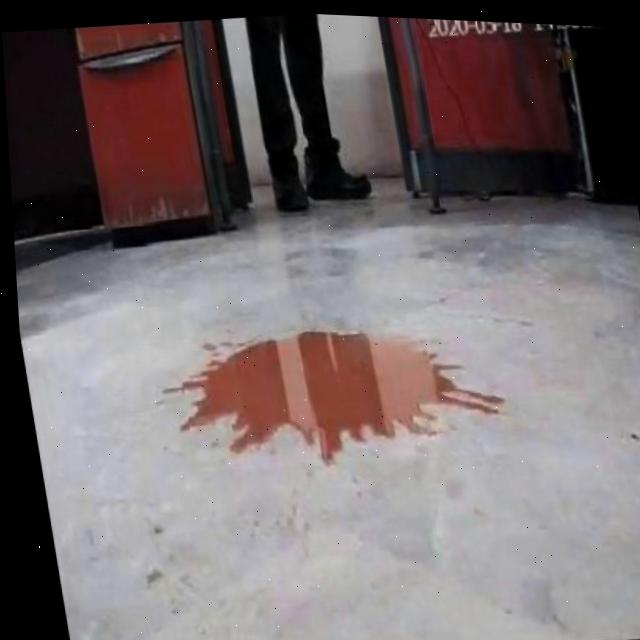spillage: (185, 329, 477, 459)
